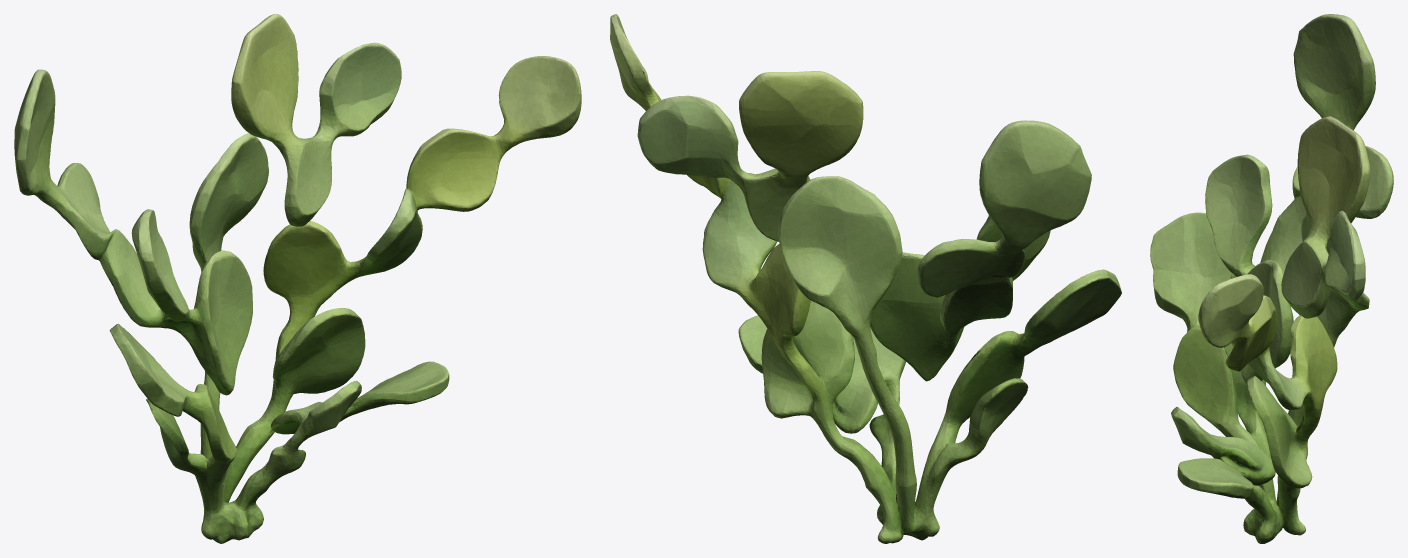
3 renders of one model, left to right at view 1: azimuth 30°, elevation 25°; view 2: azimuth 150°, elevation 25°; view 3: azimuth 270°, elevation 25°, orthographic. The views are drawn at different scales.
Parts seen in each view (by area): view 1: world; view 2: world; view 3: world.
Boxes of the visible parts, left/top/right/bottom form: world: left=14, top=14, right=581, bottom=543; world: left=610, top=14, right=1121, bottom=543; world: left=1150, top=14, right=1393, bottom=543.
Bounding box in the file's own units: 0.9997 × 0.8788 × 0.4304.
Materials: 1 (1 with a texture image).
